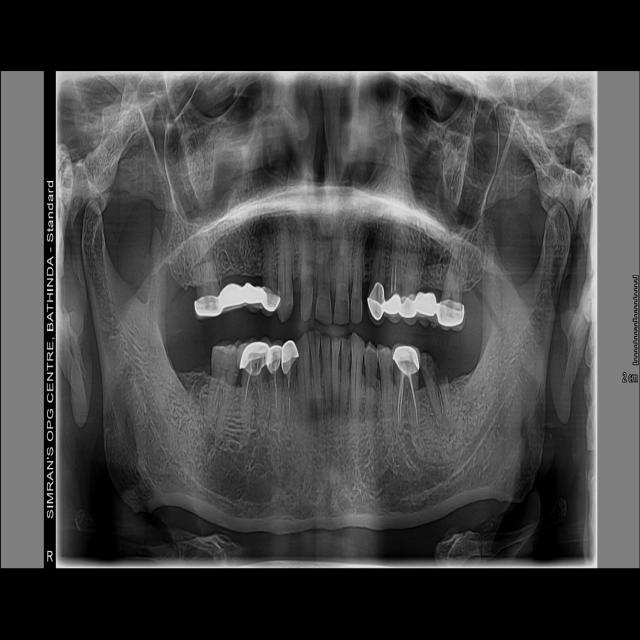Crown: (240, 341, 269, 375), (392, 346, 420, 377), (281, 339, 299, 375), (265, 346, 282, 374)
Root Canal Treatment: (408, 375, 418, 424), (398, 372, 404, 425), (400, 377, 405, 424)
Root Piece: (420, 352, 442, 421), (438, 375, 451, 417)
